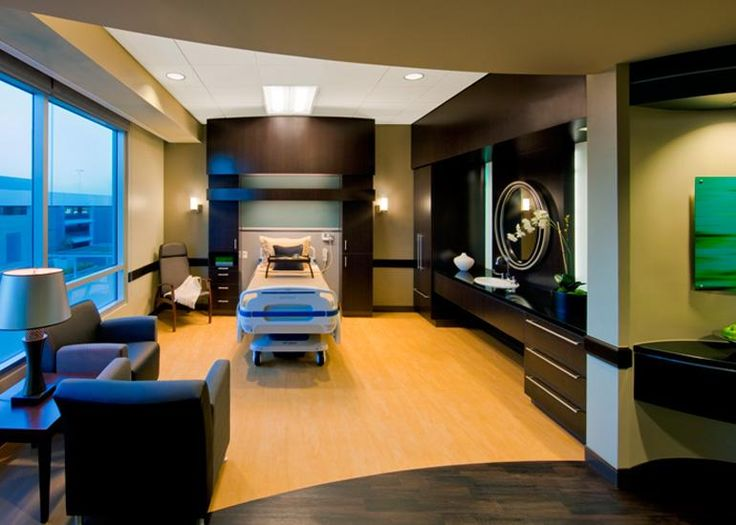hospital bed: (242, 239, 343, 339)
